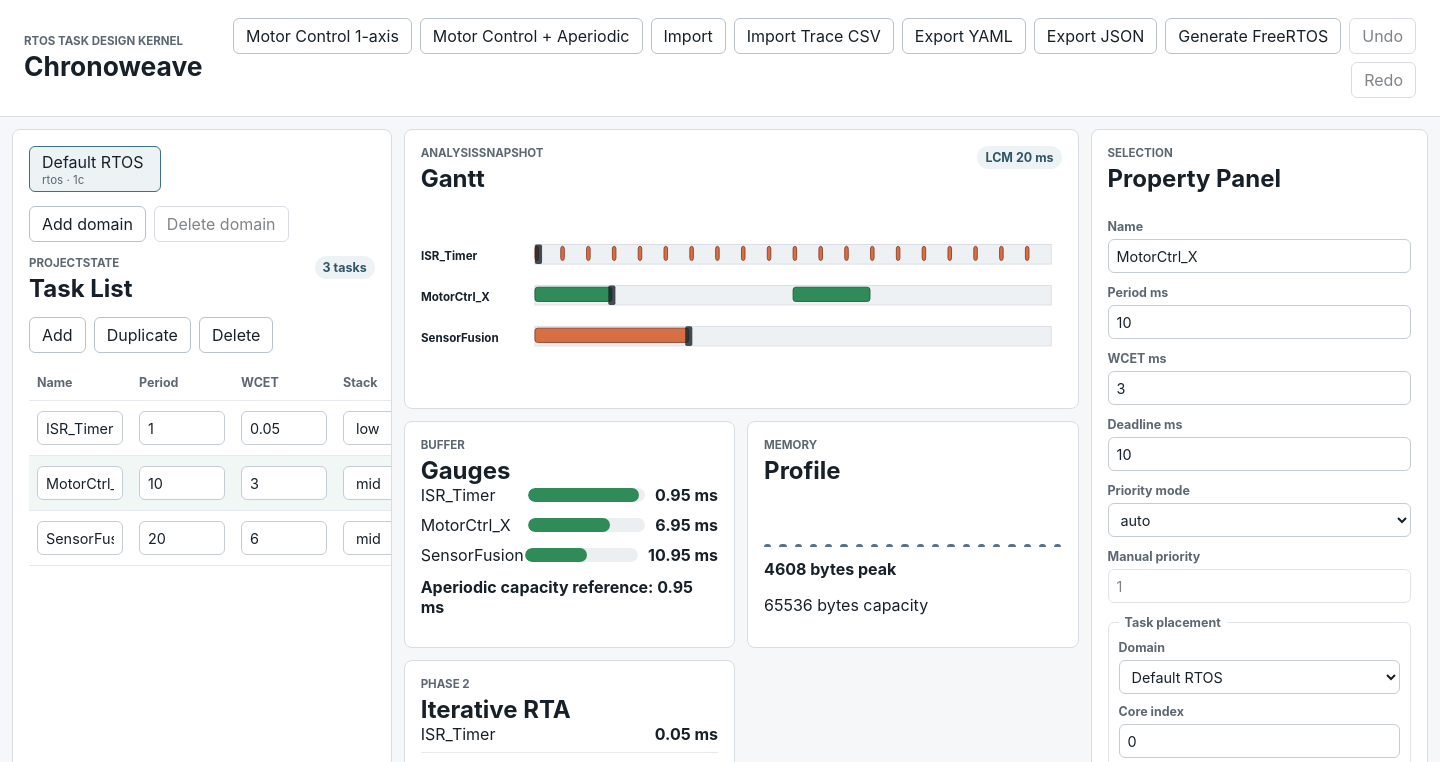
Test: App shell › keeps task editing scoped to the active domain
Click the button "Add domain" at [87, 224], box [29, 206, 146, 242]
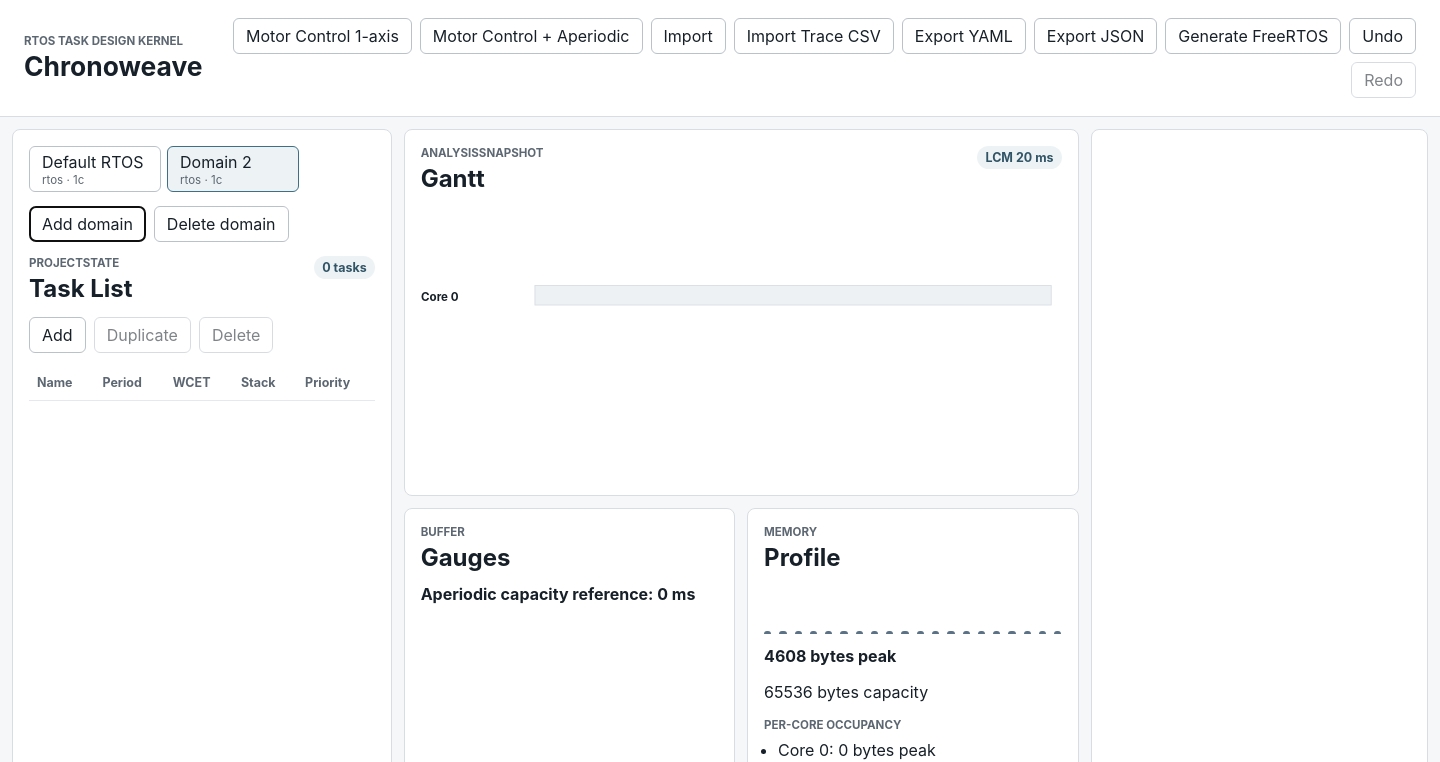
Result: the label labelled "WCET ms" is gone
Result: the button "Duplicate" is disabled at [94, 317, 191, 353]
Result: the button "Delete" is disabled at [199, 317, 273, 353]
Click the button "Add" at [57, 335], box [29, 317, 86, 353]
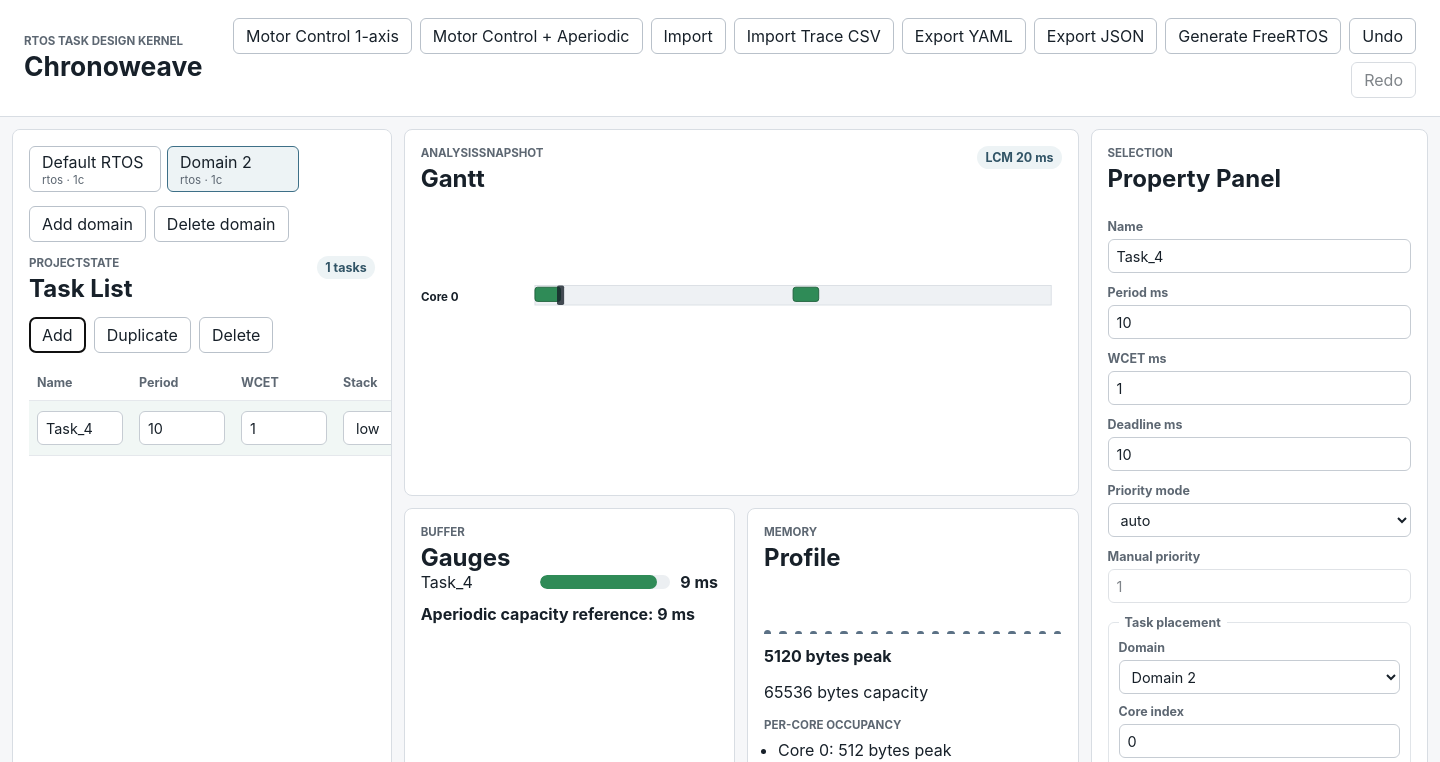
Expected: the number field labelled "WCET ms" holds "1", [1108, 371, 1411, 405]
Result: the number field named "Task_4 wcet" is shown at [241, 411, 327, 445]
